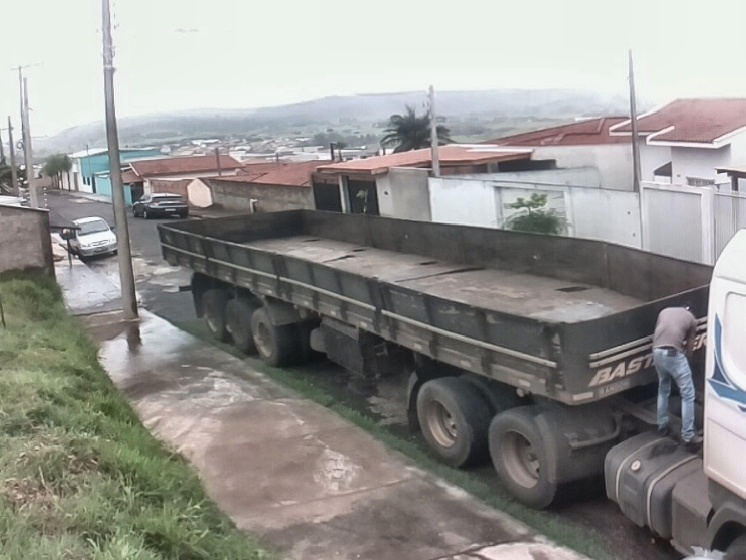person: (650, 305, 706, 446)
